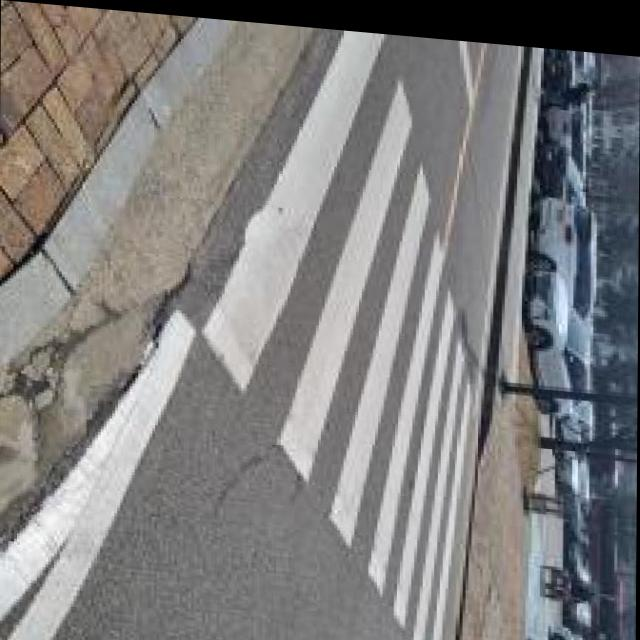zebra: (204, 240, 481, 602)
